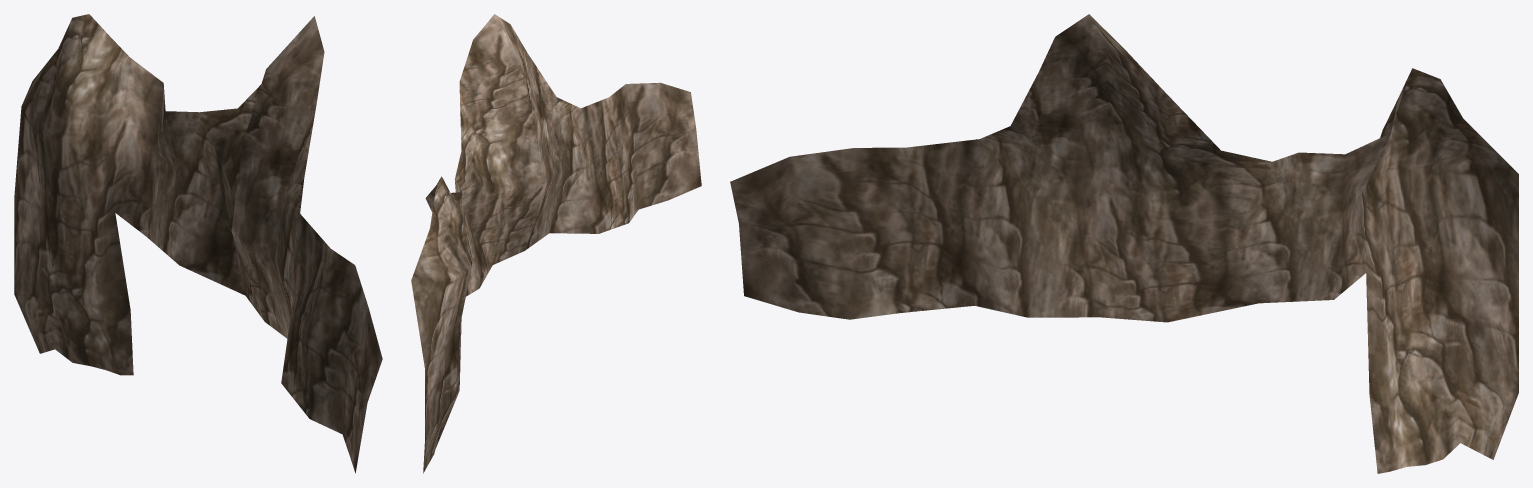
File: OVERHILL_A_01_OBJECT31.fbx
3 views of the same model, side by side, from view 1: azimuth 30°, elevation 25°; view 2: azimuth 150°, elevation 25°; view 3: azimuth 270°, elevation 25° (orthographic). The views are drawn at different scales.
Parts seen in each view (by area): view 1: OVERHILL_A_01_OBJECT31; view 2: OVERHILL_A_01_OBJECT31; view 3: OVERHILL_A_01_OBJECT31.
Part boxes in pixels (box(x1,y1,x2,y2)): OVERHILL_A_01_OBJECT31: box(14, 14, 382, 473); OVERHILL_A_01_OBJECT31: box(411, 14, 701, 473); OVERHILL_A_01_OBJECT31: box(730, 14, 1518, 473).
Size of the model in its own units: 52700 by 172134 by 248951.
Materials: 1 (1 with a texture image).
